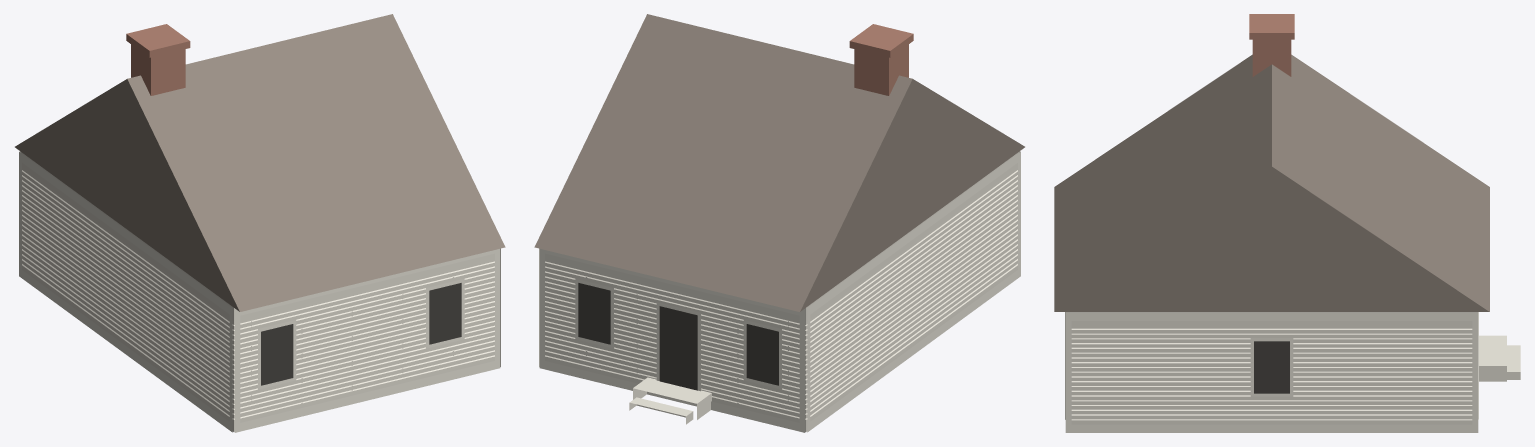
File: recon_1835_blk_south_water_franklin_d5_01__inferred_1835.glb
3 renders of one model, left to right at view 1: azimuth 30°, elevation 25°; view 2: azimuth 150°, elevation 25°; view 3: azimuth 270°, elevation 25°, orthographic. The views are drawn at different scales.
Visible parts, largest first — view 1: recon_1835_blk_south_water_franklin_d5_01__inferred_1835; view 2: recon_1835_blk_south_water_franklin_d5_01__inferred_1835; view 3: recon_1835_blk_south_water_franklin_d5_01__inferred_1835.
Part boxes in pixels (bbox=[...]): recon_1835_blk_south_water_franklin_d5_01__inferred_1835: bbox=[15, 14, 505, 432]; recon_1835_blk_south_water_franklin_d5_01__inferred_1835: bbox=[534, 14, 1024, 432]; recon_1835_blk_south_water_franklin_d5_01__inferred_1835: bbox=[1054, 14, 1520, 432].
Bounding box in the file's own units: 6.5 × 7.14 × 10.12.
